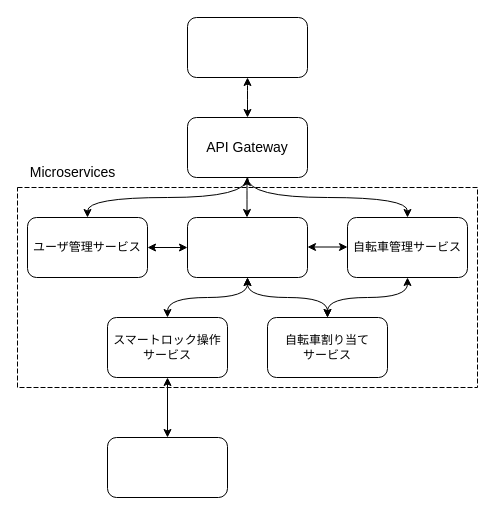
Some shapes in this 495 by 515 pixel diagram are drawn without their labels. Each missing label, with the centre of its shape:
Client: (247,47)
IoT スマートロック: (167,467)
自転車利用サービス: (247,247)
